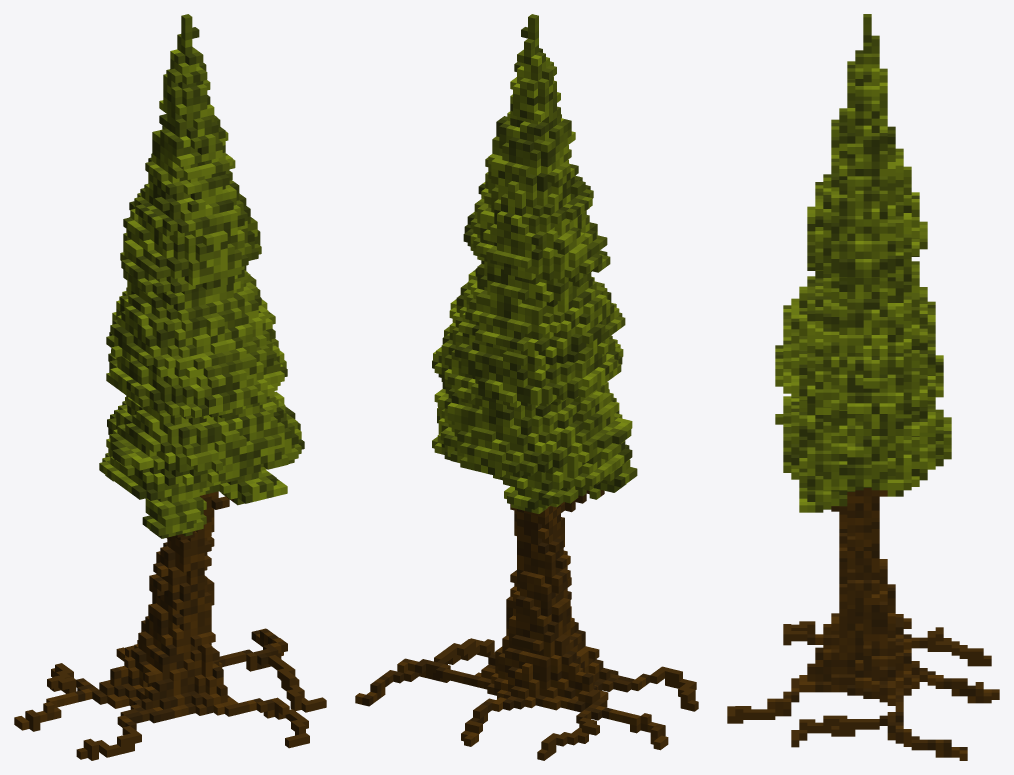
Rendered from Tree_2.obj.
3 renders of one model, left to right at view 1: azimuth 30°, elevation 25°; view 2: azimuth 150°, elevation 25°; view 3: azimuth 270°, elevation 25°, orthographic.
Visible parts, largest first — view 1: model_Tree_2.obj; view 2: model_Tree_2.obj; view 3: model_Tree_2.obj.
Part boxes in pixels (left/top/right/bottom): model_Tree_2.obj: left=14, top=14, right=326, bottom=760; model_Tree_2.obj: left=355, top=14, right=698, bottom=760; model_Tree_2.obj: left=727, top=14, right=999, bottom=760.
Bounding box in the file's own units: 40 × 94 × 34.
1 material, 1 textured.
